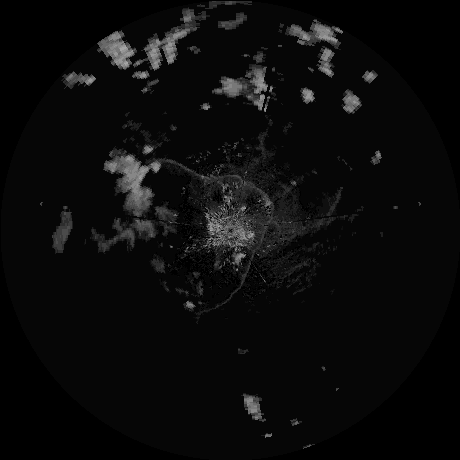frontgust: (204, 265, 249, 317), (254, 187, 276, 245)
